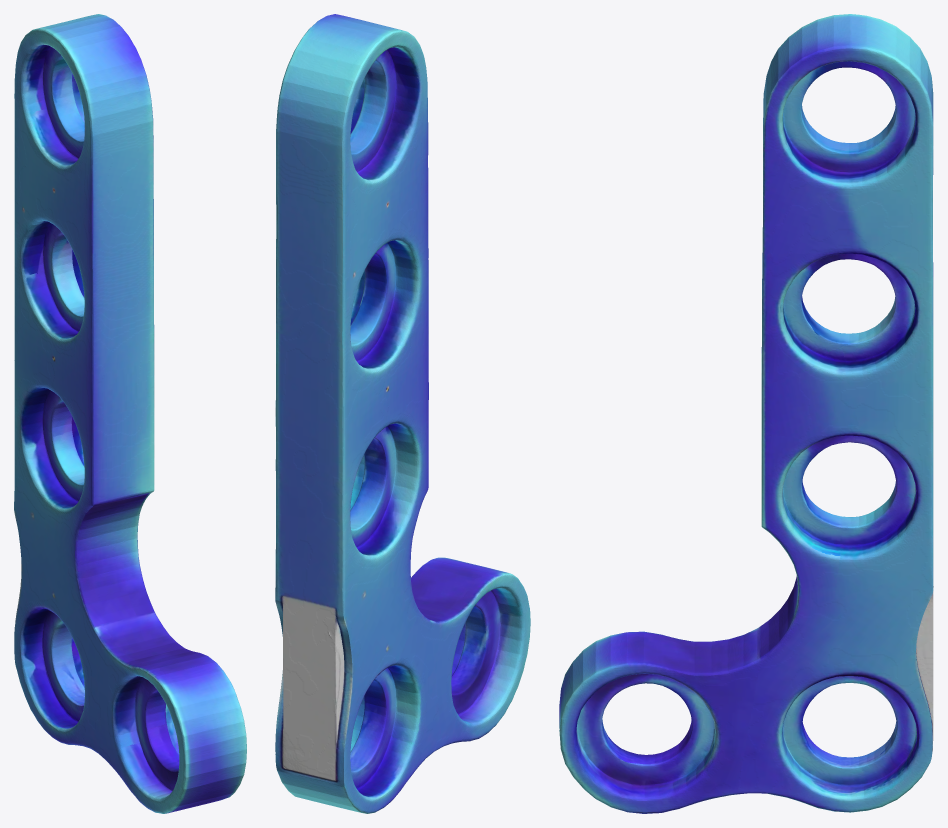
Rendered from pieza+mecánica+3d_compressed.glb.
The picture shows the model from 3 angles, left to right: view 1: azimuth 30°, elevation 25°; view 2: azimuth 150°, elevation 25°; view 3: azimuth 270°, elevation 25°; orthographic projection. The views are drawn at different scales.
Parts seen in each view (by area): view 1: tripo_node_3b7532cc-3e61-4ca2-95e0-dd29eb8efc06; view 2: tripo_node_3b7532cc-3e61-4ca2-95e0-dd29eb8efc06; view 3: tripo_node_3b7532cc-3e61-4ca2-95e0-dd29eb8efc06.
Part boxes in pixels (x1,y1,x2,y2): tripo_node_3b7532cc-3e61-4ca2-95e0-dd29eb8efc06: [14, 14, 246, 813]; tripo_node_3b7532cc-3e61-4ca2-95e0-dd29eb8efc06: [275, 14, 530, 813]; tripo_node_3b7532cc-3e61-4ca2-95e0-dd29eb8efc06: [559, 14, 933, 813].
Bounding box in the file's own units: 0.0935 × 1 × 0.4411.
Materials: 1 (1 with a texture image).
